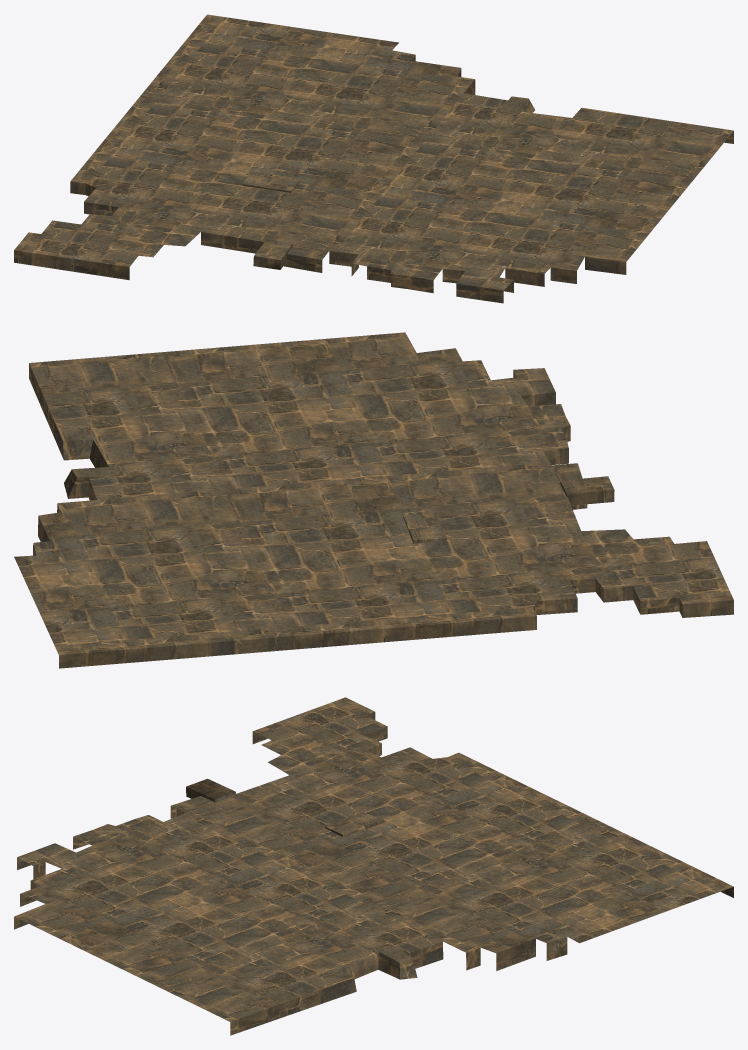
3 renders of one model, top to bottom at view 1: azimuth 30°, elevation 25°; view 2: azimuth 150°, elevation 25°; view 3: azimuth 270°, elevation 25°, orthographic. The views are drawn at different scales.
Parts seen in each view (by area): view 1: DM; view 2: DM; view 3: DM.
Boxes of the visible parts, x1,y1,x2,y2 form: DM: (14, 14, 733, 303); DM: (14, 332, 733, 668); DM: (14, 697, 733, 1035).
Bounding box in the file's own units: 36.39 × 34.09 × 1.08.
